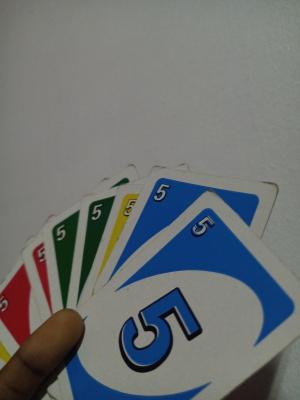num_5: (191, 214, 216, 240), (150, 180, 172, 204), (50, 225, 69, 246), (88, 202, 105, 223), (33, 244, 50, 264)
